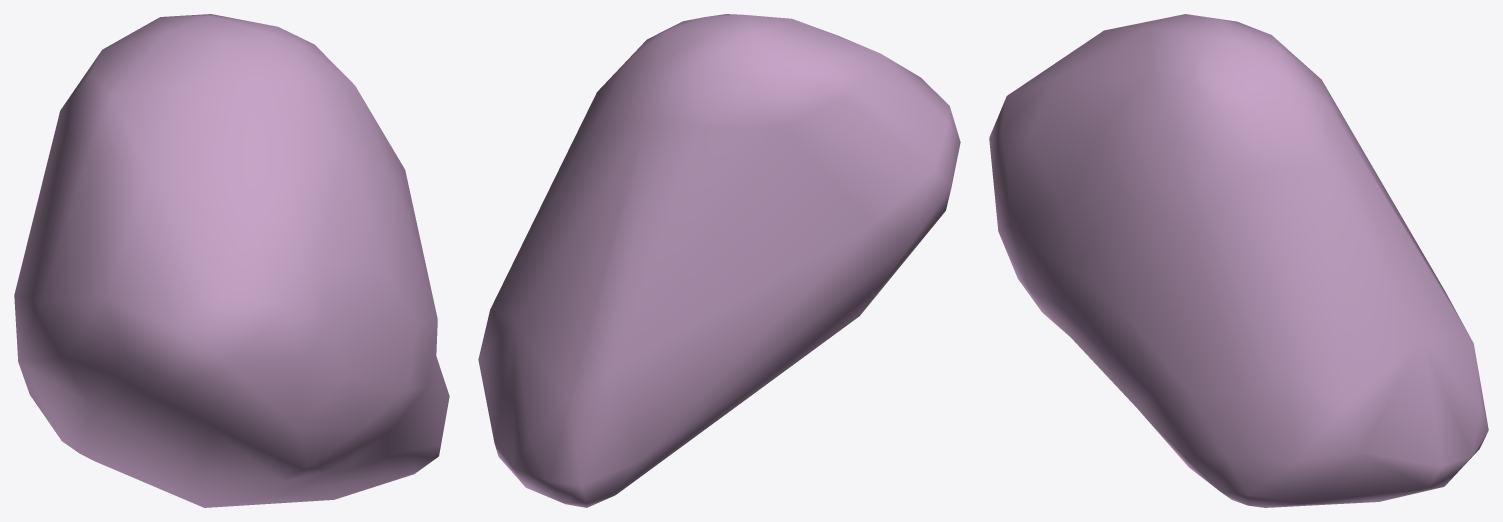
3 renders of one model, left to right at view 1: azimuth 30°, elevation 25°; view 2: azimuth 150°, elevation 25°; view 3: azimuth 270°, elevation 25°, orthographic. The views are drawn at different scales.
Visible parts, largest first — view 1: 左侧内侧膝状体; view 2: 左侧内侧膝状体; view 3: 左侧内侧膝状体.
Boxes of the visible parts, box(x1,y1,x2,y2) form: 左侧内侧膝状体: box(14, 14, 449, 507); 左侧内侧膝状体: box(478, 14, 960, 507); 左侧内侧膝状体: box(989, 14, 1488, 507).
Size of the model in its own units: 0.00932 by 0.0101 by 0.011.
